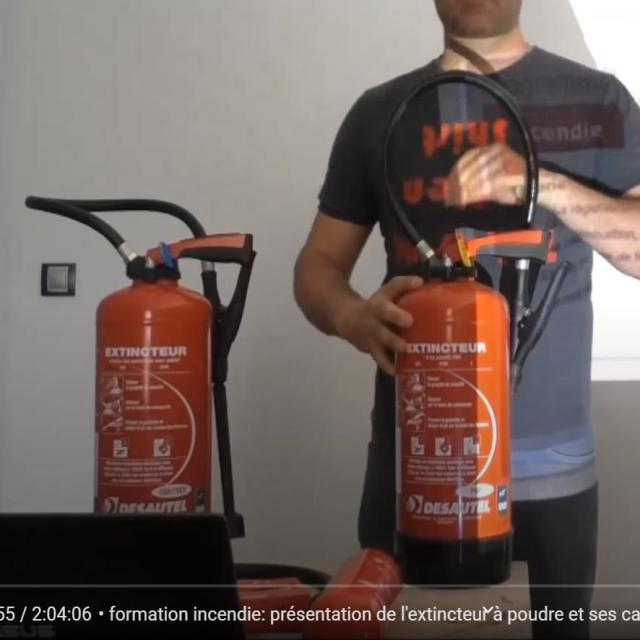fire_extinguisher: (372, 58, 572, 595), (21, 187, 265, 547)
